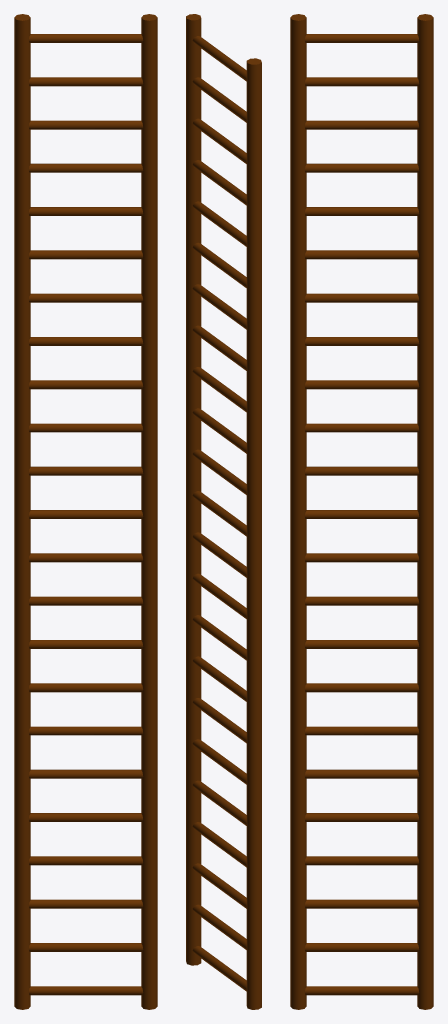
Rendered from ladder.fbx.
The picture shows the model from 3 angles, left to right: view 1: azimuth 90°, elevation 25°; view 2: azimuth 210°, elevation 25°; view 3: azimuth 270°, elevation 25°; orthographic projection. The views are drawn at different scales.
Parts seen in each view (by area): view 1: ladder; view 2: ladder; view 3: ladder.
Boxes of the visible parts, x1,y1,x2,y2 form: ladder: (14, 14, 157, 1009); ladder: (186, 14, 261, 1009); ladder: (290, 14, 433, 1009).
Size of the model in its own units: 15 by 1000 by 131.
